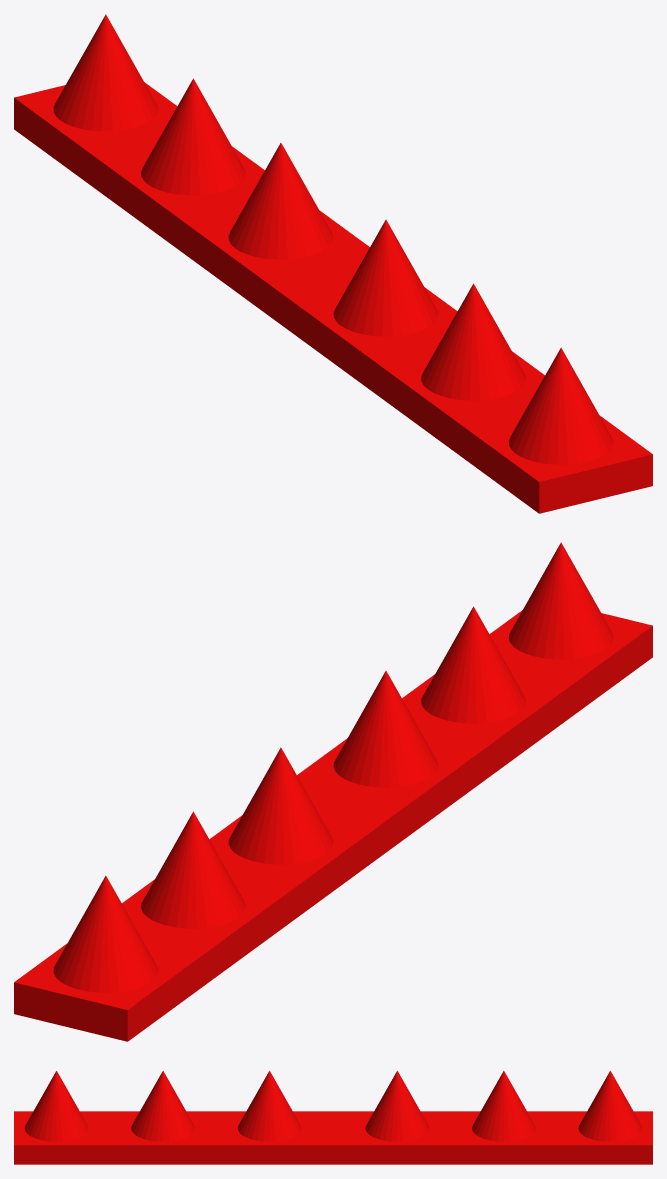
Rendered from engel.fbx.
3 renders of one model, top to bottom at view 1: azimuth 30°, elevation 25°; view 2: azimuth 150°, elevation 25°; view 3: azimuth 270°, elevation 25°, orthographic. The views are drawn at different scales.
Parts seen in each view (by area): view 1: Cube; view 2: Cube; view 3: Cube.
Boxes of the visible parts, x1=… form: Cube: x1=14, y1=14, x2=652, y2=513; Cube: x1=14, y1=542, x2=652, y2=1041; Cube: x1=14, y1=1071, x2=652, y2=1164.
Bounding box in the file's own units: 375 × 400 × 3000.
1 material, 1 textured.
